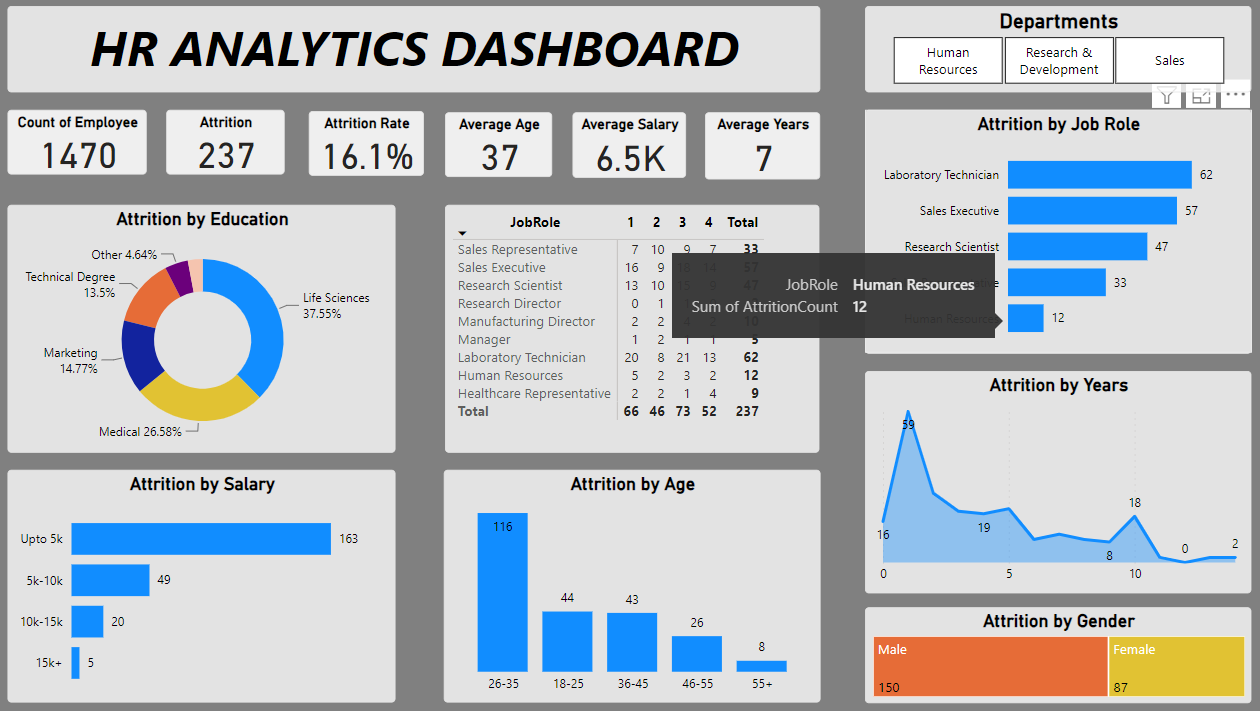

Layout of this report page (visuals, bound fields, positions):
{"tool":"powerbi","page":{"name":"Page 1","canvas":[1280,720],"ordinal":0},"visuals":[{"type":"card","title":"Count of Employee","fields":{"Values":["CountNonNull(HR_Analytics.EmpID)"]},"box":[17,113.8,139.4,64.9],"z":0},{"type":"card","title":"Attrition","fields":{"Values":["Sum(HR_Analytics.AttritionCount)"]},"box":[176.6,113.8,118.1,64.9],"z":1000},{"type":"card","title":"Attrition Rate","fields":{"Values":["HR_Analytics.AttritionRate"]},"box":[319.1,114.9,114.9,64.9],"z":2000},{"type":"card","title":"Average Age ","fields":{"Values":["Avg(HR_Analytics.Age)"]},"box":[455.3,116,107.4,64.9],"z":3000},{"type":"card","title":"Average Salary","fields":{"Values":["Avg(HR_Analytics.MonthlyIncome)"]},"box":[583,116,113.8,66],"z":4000},{"type":"card","title":"Average Years ","fields":{"Values":["Avg(HR_Analytics.YearsAtCompany)"]},"box":[714.9,116,114.9,67],"z":5000},{"type":"donutChart","title":"Attrition by Education","fields":{"Category":["HR_Analytics.EducationField"],"Y":["Sum(HR_Analytics.AttritionCount)"]},"box":[17,208.5,388.3,247.9],"z":6000},{"type":"columnChart","title":"Attrition by Age","fields":{"Category":["HR_Analytics.AgeGroup"],"Y":["Sum(HR_Analytics.AttritionCount)"]},"box":[453.2,473.4,376.6,233],"z":7000},{"type":"pivotTable","fields":{"Rows":["HR_Analytics.JobRole"],"Columns":["HR_Analytics.JobSatisfaction"],"Values":["Sum(HR_Analytics.AttritionCount)"]},"box":[455.3,208.5,374.5,247.9],"z":8000},{"type":"barChart","title":"Attrition by Salary","fields":{"Category":["HR_Analytics.SalarySlab"],"Y":["Sum(HR_Analytics.AttritionCount)"]},"box":[17,473.4,388.3,233],"z":9000},{"type":"barChart","title":"Attrition by Job Role","fields":{"Category":["HR_Analytics.JobRole"],"Y":["Sum(HR_Analytics.AttritionCount)"]},"box":[875.5,113.8,386.2,243.6],"z":10000},{"type":"areaChart","title":"Attrition by Years","fields":{"Category":["HR_Analytics.YearsAtCompany"],"Y":["Sum(HR_Analytics.AttritionCount)"]},"box":[875,375,386.2,222.5],"z":11000},{"type":"treemap","title":"Attrition by Gender","fields":{"Group":["HR_Analytics.Gender"],"Values":["Sum(HR_Analytics.AttritionCount)"]},"box":[875.5,610.6,386.2,95.7],"z":12000},{"type":"slicer","title":"Departments","fields":{"Values":["HR_Analytics.Department"]},"box":[875.5,9.6,386.2,86.2],"z":13000},{"type":"textbox","box":[17,9.6,812.8,86.2],"z":14000}]}

Visuals, with their boxes in screenshot pixels (x1, y1, x2, y2), scaled from the page's 1280x720 canvas onto the 1260x711 screenshot:
"Count of Employee" card: left=17, top=112, right=154, bottom=176
"Attrition" card: left=174, top=112, right=290, bottom=176
"Attrition Rate" card: left=314, top=113, right=427, bottom=178
"Average Age " card: left=448, top=115, right=554, bottom=179
"Average Salary" card: left=574, top=115, right=686, bottom=180
"Average Years " card: left=704, top=115, right=817, bottom=181
"Attrition by Education" donutChart: left=17, top=206, right=399, bottom=451
"Attrition by Age" columnChart: left=446, top=467, right=817, bottom=698
pivotTable - HR_Analytics.JobRole x HR_Analytics.JobSatisfaction: left=448, top=206, right=817, bottom=451
"Attrition by Salary" barChart: left=17, top=467, right=399, bottom=698
"Attrition by Job Role" barChart: left=862, top=112, right=1242, bottom=353
"Attrition by Years" areaChart: left=861, top=370, right=1241, bottom=590
"Attrition by Gender" treemap: left=862, top=603, right=1242, bottom=697
"Departments" slicer: left=862, top=9, right=1242, bottom=95
textbox: left=17, top=9, right=817, bottom=95
